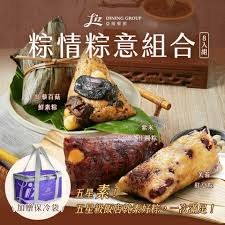zongzi: (116, 128, 219, 203), (63, 134, 162, 196), (64, 52, 136, 129)
